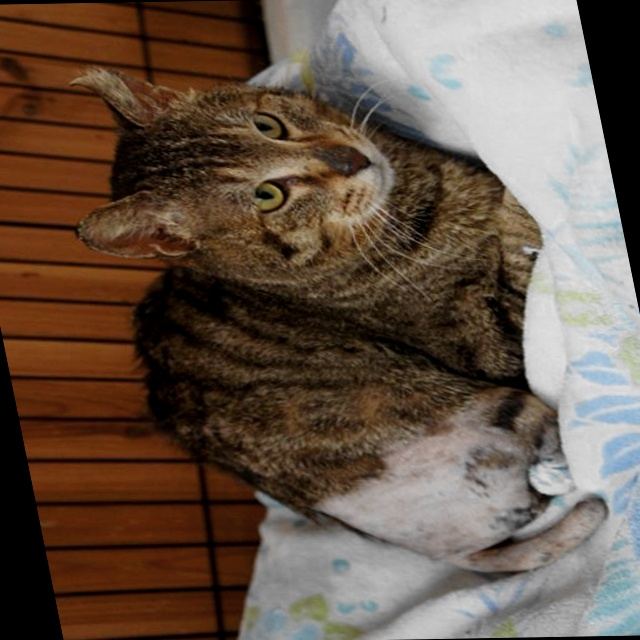hairloss: (310, 426, 563, 558)
